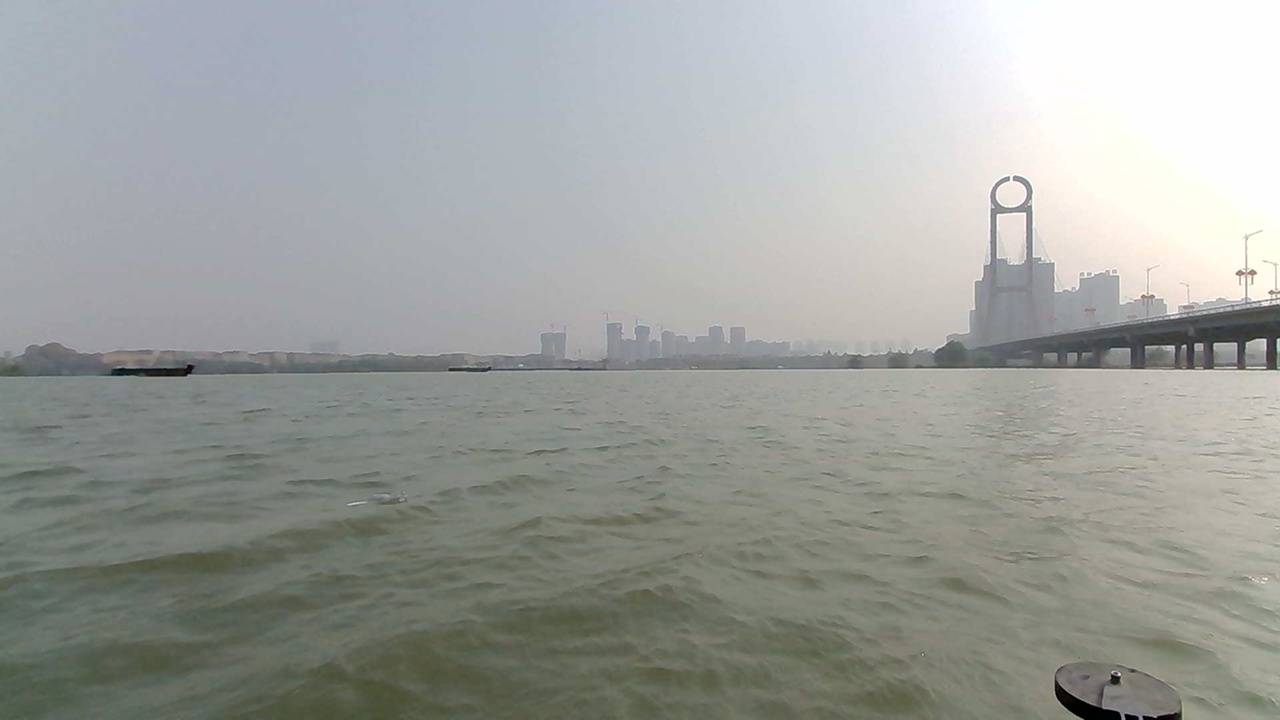bottle: (319, 472, 431, 520)
